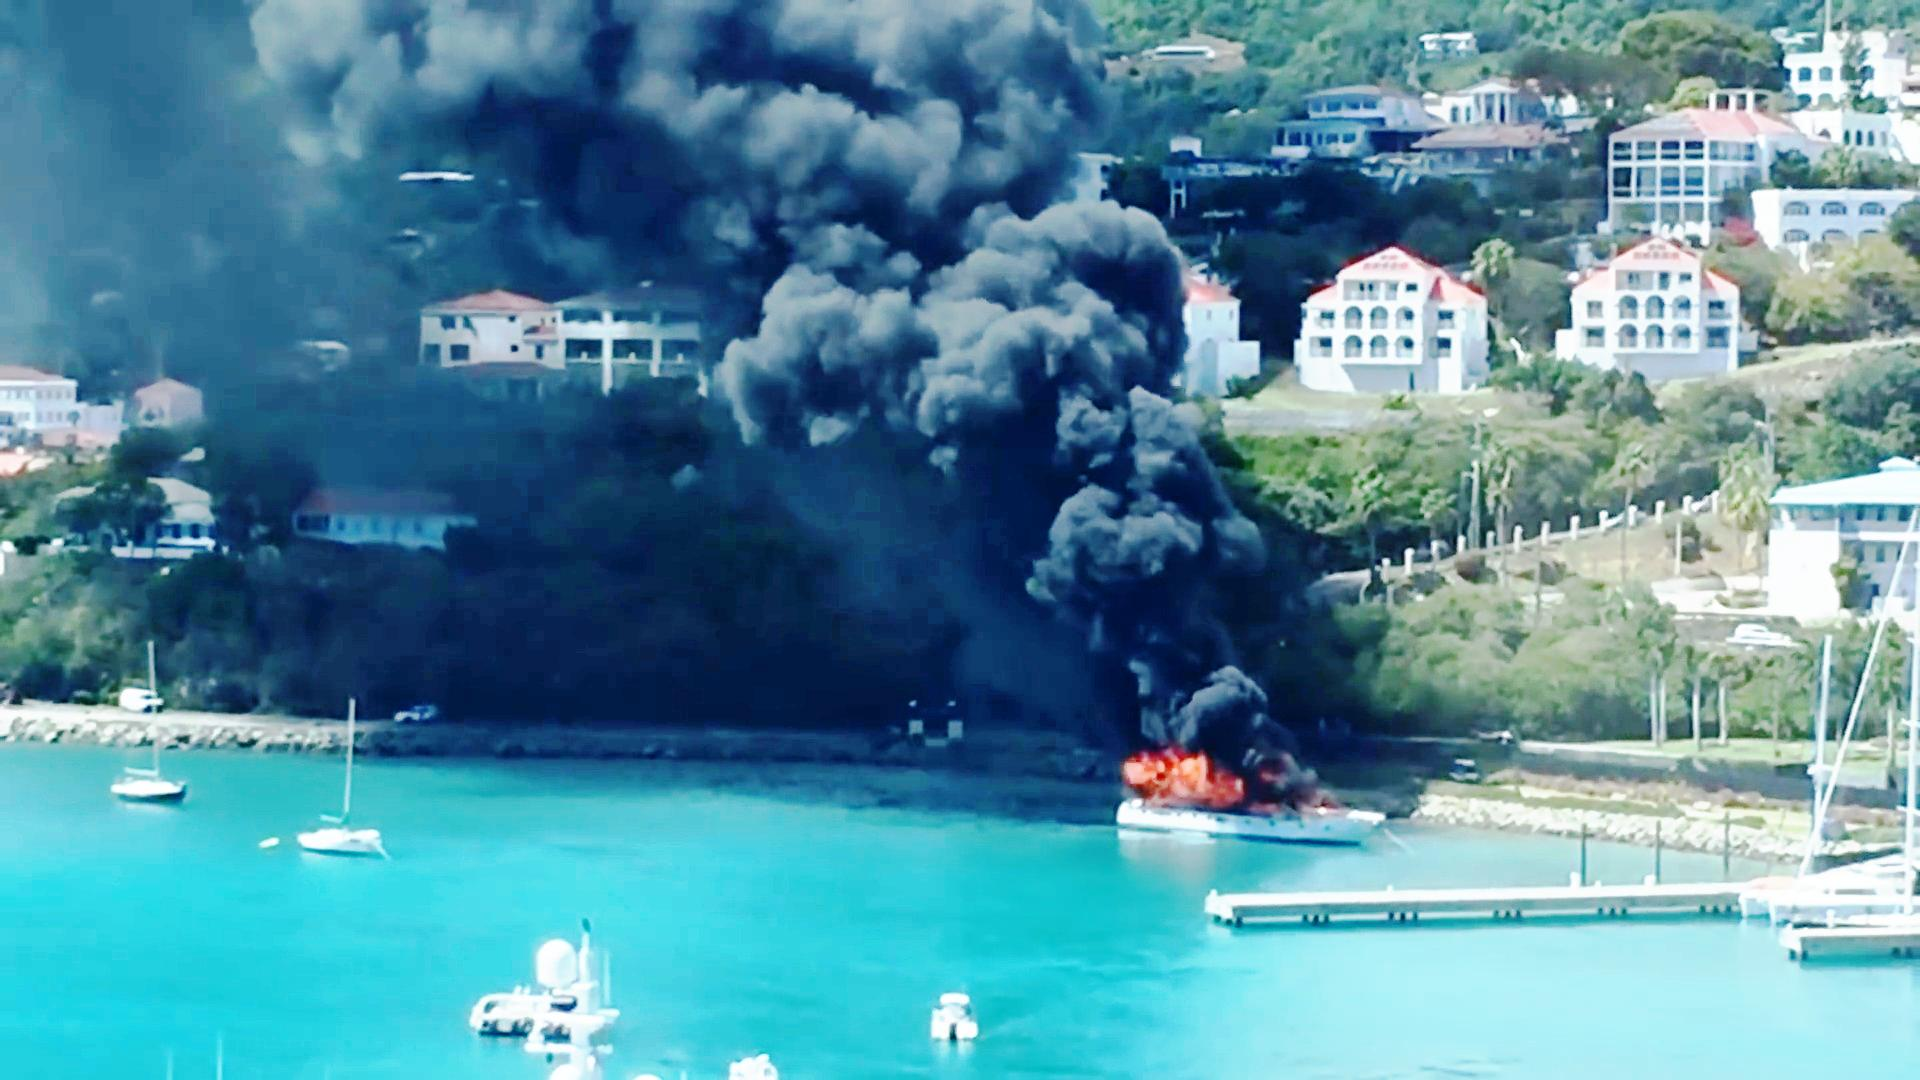fire: (1116, 753, 1255, 820)
smoke: (281, 3, 1105, 207), (779, 214, 1158, 487), (1062, 471, 1266, 658)
